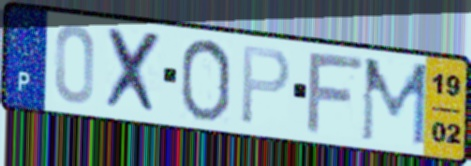0: (53, 22, 97, 107)
F: (303, 51, 368, 137)
M: (358, 55, 431, 150)
O: (177, 37, 234, 124)
P: (238, 43, 294, 128)
X: (104, 25, 165, 119)
